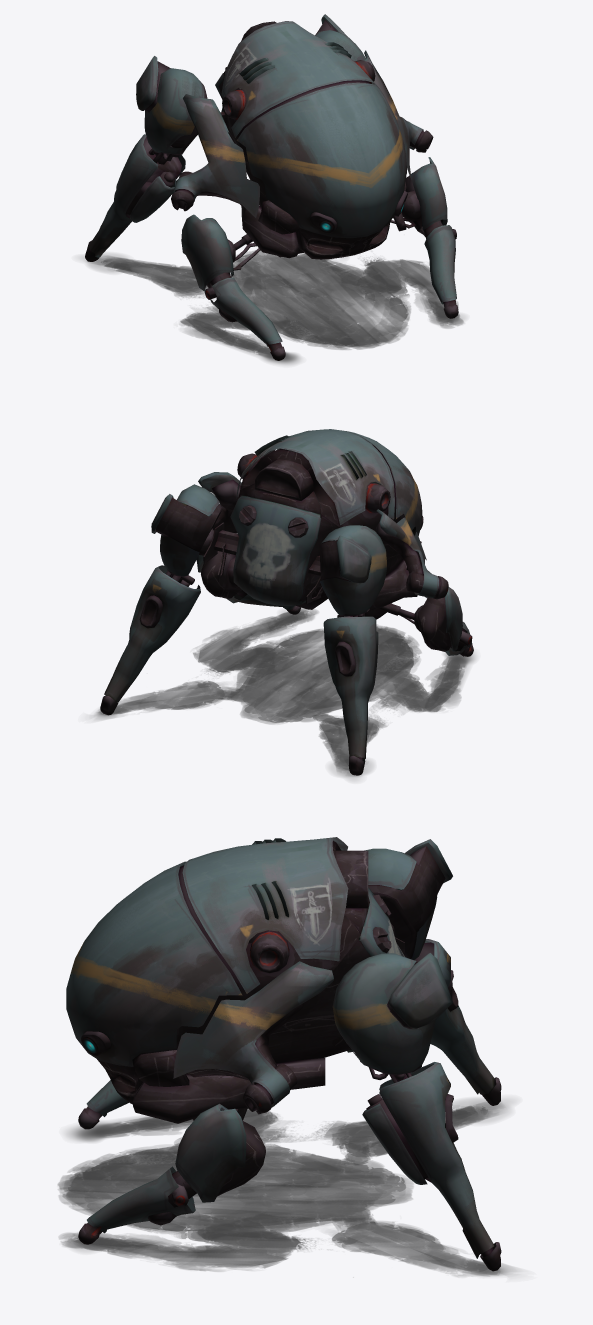
3 views of the same model, one above another, from view 1: azimuth 30°, elevation 25°; view 2: azimuth 150°, elevation 25°; view 3: azimuth 270°, elevation 25° (orthographic). The views are drawn at different scales.
Parts seen in each view (by area): view 1: fullrender, fullrender.001; view 2: fullrender, fullrender.001; view 3: fullrender, fullrender.001.
Part boxes in pixels (x1,y1,x2,y2): fullrender: [85, 14, 458, 360]; fullrender.001: [82, 251, 463, 364]; fullrender: [100, 429, 473, 775]; fullrender.001: [93, 608, 474, 779]; fullrender: [66, 837, 501, 1271]; fullrender.001: [58, 1098, 517, 1276].
Size of the model in its own units: 7.66 by 5.13 by 7.66.
2 materials, 2 textured.
